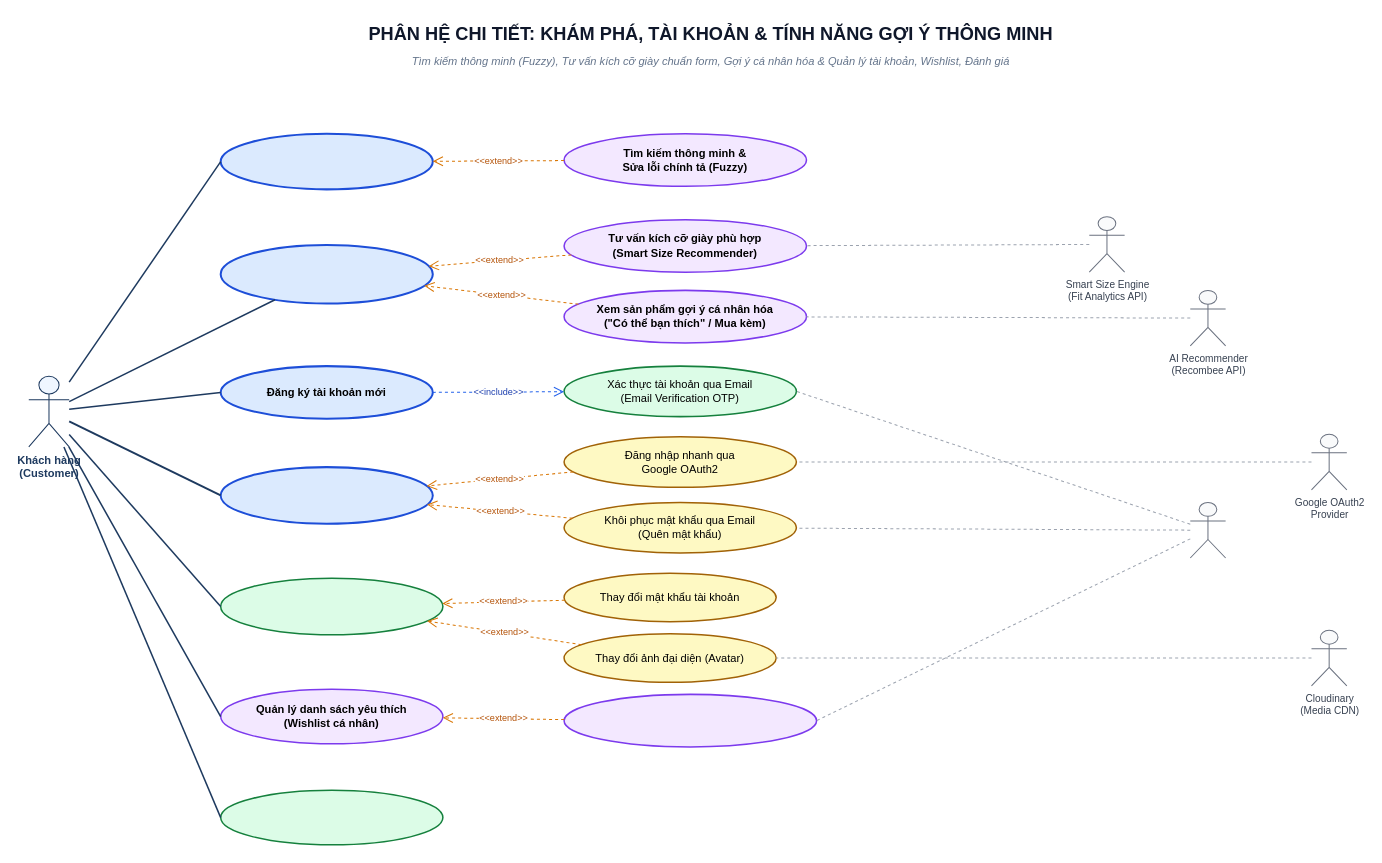
Image size: 1382x863. Some labels were removed from this diagram. Each missing label, with the box of its shape:
Email Server (SMTP): (1189, 501, 1226, 558)
Tìm kiếm & Lọc sản phẩm (Thương hiệu, Size, Giá): (219, 132, 433, 190)
Xem & cập nhật hồ sơ cá nhân: (219, 577, 443, 635)
Xem chi tiết sản phẩm (Ảnh, Biến thể, Tồn kho): (219, 243, 433, 304)
Đánh giá sản phẩm đã mua (Xếp sao & Viết nhận xét): (219, 789, 443, 845)
Đăng ký nhận thông báo khi có hàng hoặc giảm giá (Back-in-Stock): (563, 693, 817, 747)
Đăng nhập hệ thống (Customer Login): (219, 466, 433, 524)
